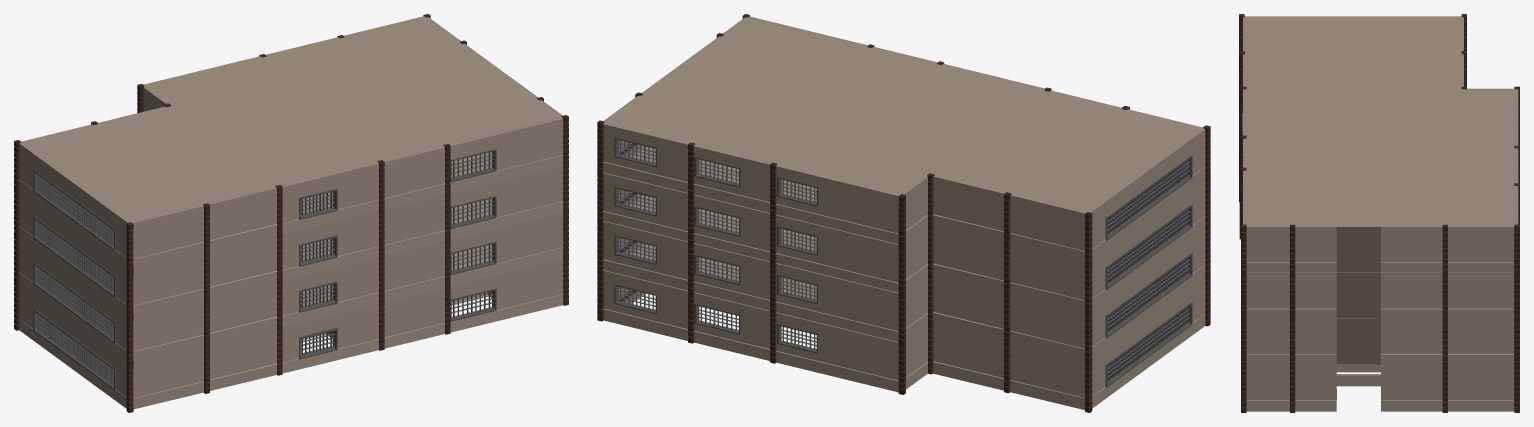
Rendered from labAndares.fbx.
3 renders of one model, left to right at view 1: azimuth 30°, elevation 25°; view 2: azimuth 150°, elevation 25°; view 3: azimuth 270°, elevation 25°, orthographic. The views are drawn at different scales.
Visible parts, largest first — view 1: Plane.001; view 2: Plane.001; view 3: Plane.001.
Boxes of the visible parts, x1,y1,x2,y2 form: Plane.001: (14, 14, 568, 412); Plane.001: (597, 14, 1210, 412); Plane.001: (1239, 14, 1519, 412).
Bounding box in the file's own units: 21696 × 8840 × 12083.
Materials: 9 (3 with a texture image).
